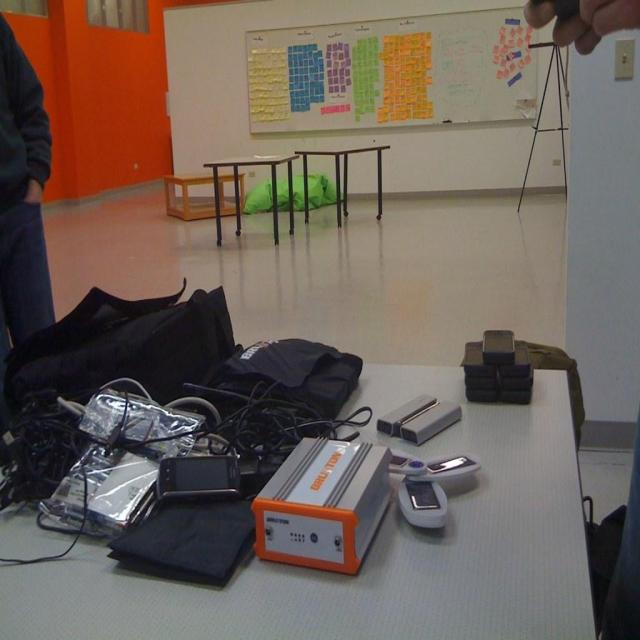table: (0, 363, 598, 639), (203, 155, 298, 245), (296, 146, 386, 229)
